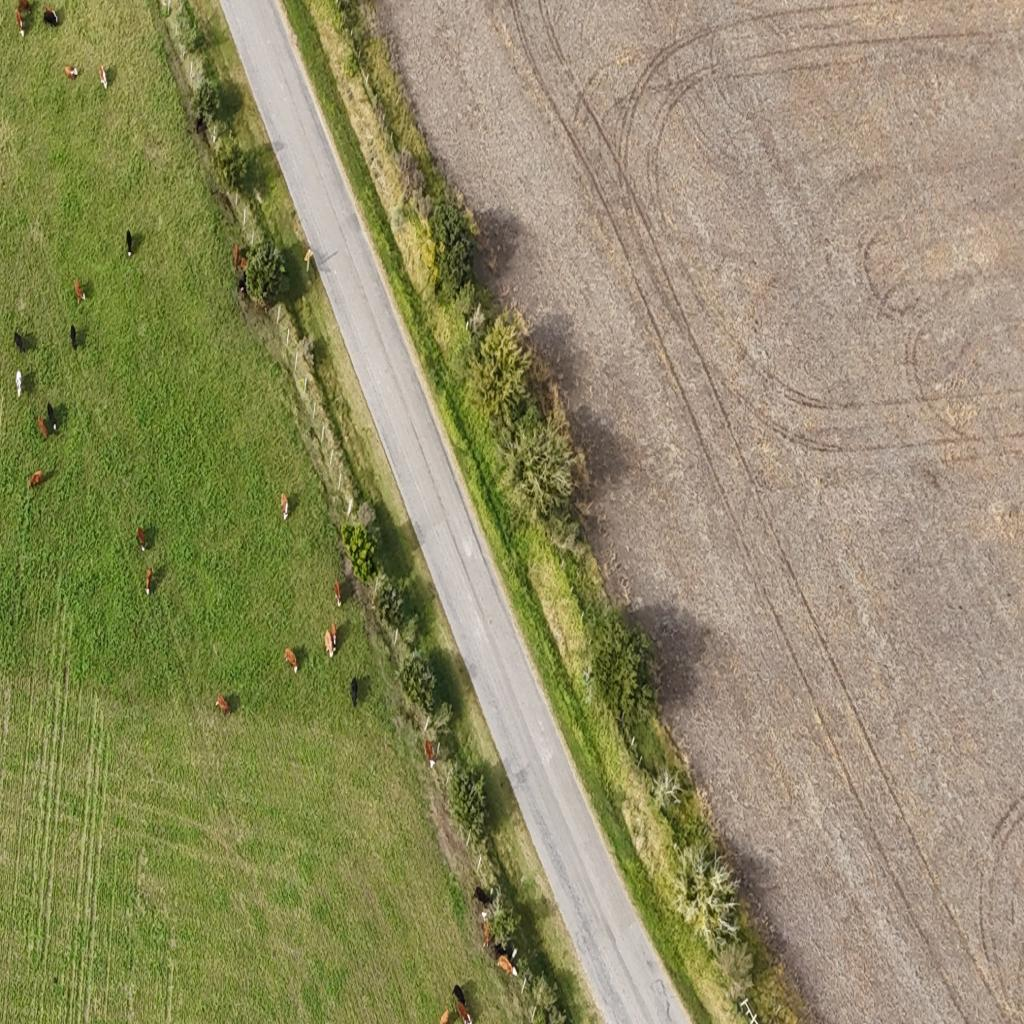cow: (496, 954, 516, 977), (473, 885, 493, 908), (14, 4, 27, 36), (284, 647, 298, 676), (452, 982, 470, 1004), (46, 402, 58, 433), (424, 739, 436, 769), (43, 6, 59, 28), (216, 694, 230, 718), (454, 1004, 472, 1022), (333, 578, 342, 610), (74, 278, 85, 303), (350, 676, 358, 710), (482, 919, 491, 948), (38, 415, 48, 441), (136, 526, 146, 552), (330, 622, 338, 654), (238, 273, 248, 298), (14, 331, 25, 353), (280, 492, 288, 522), (15, 369, 23, 399), (29, 470, 43, 487), (99, 64, 108, 90), (145, 568, 154, 594), (235, 247, 244, 273), (64, 65, 79, 80), (195, 116, 206, 136), (438, 1007, 451, 1022), (126, 228, 132, 258), (70, 324, 76, 352)
